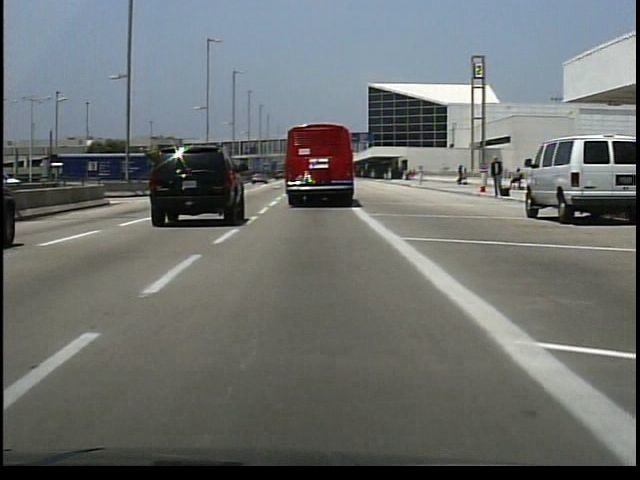person: (487, 155, 507, 204), (507, 166, 524, 194)
